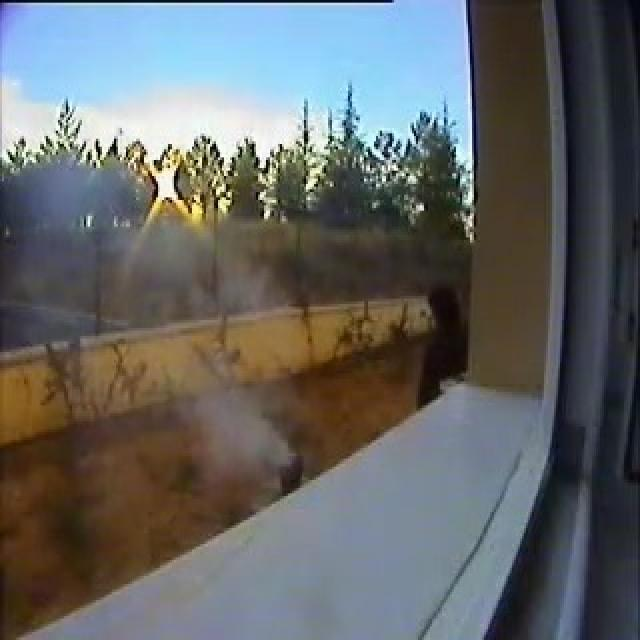smoke: (193, 371, 291, 469)
